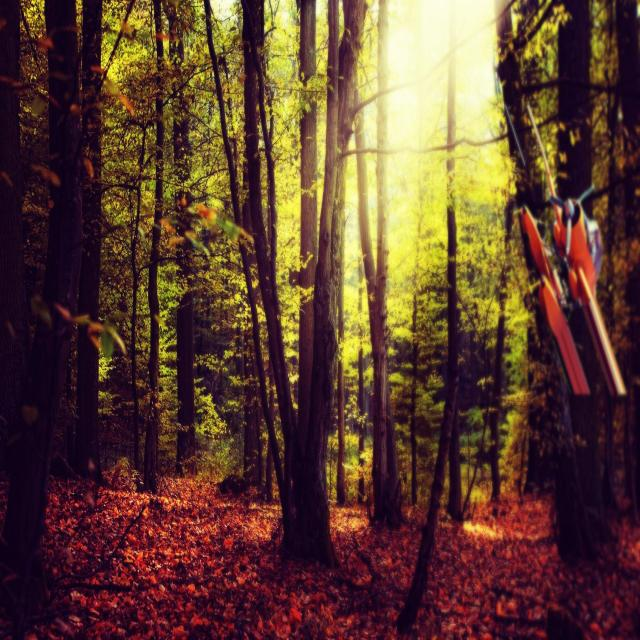airplane: (502, 100, 626, 397)
